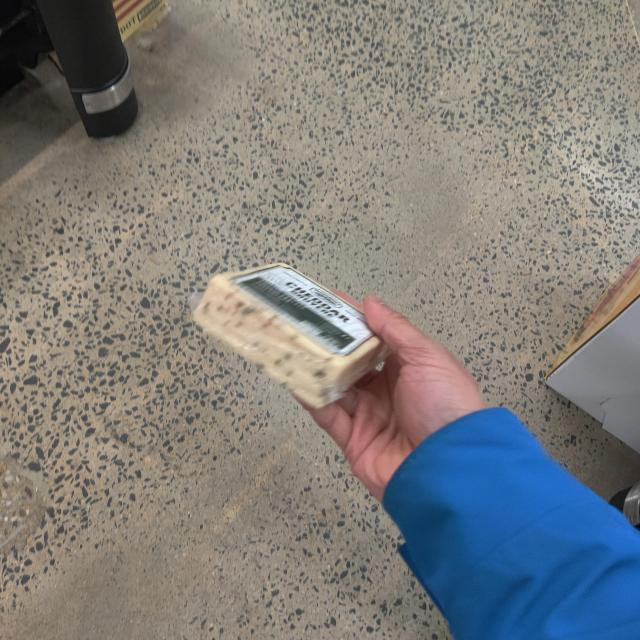Cheese: (191, 252, 385, 402)
